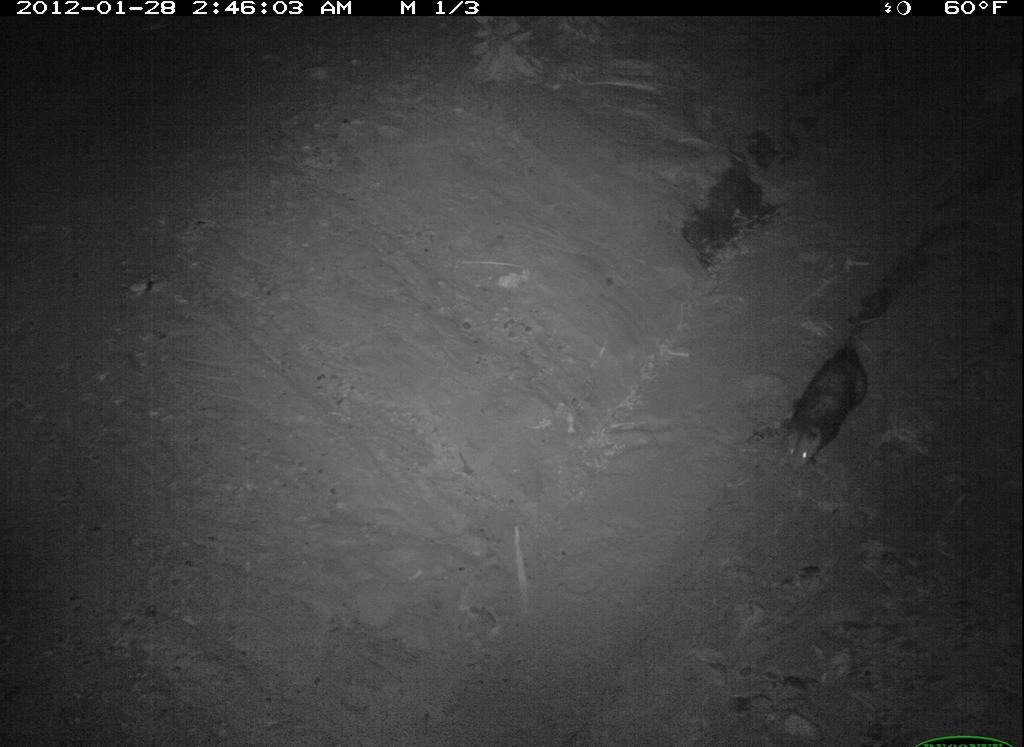opossum: (766, 312, 877, 488)
